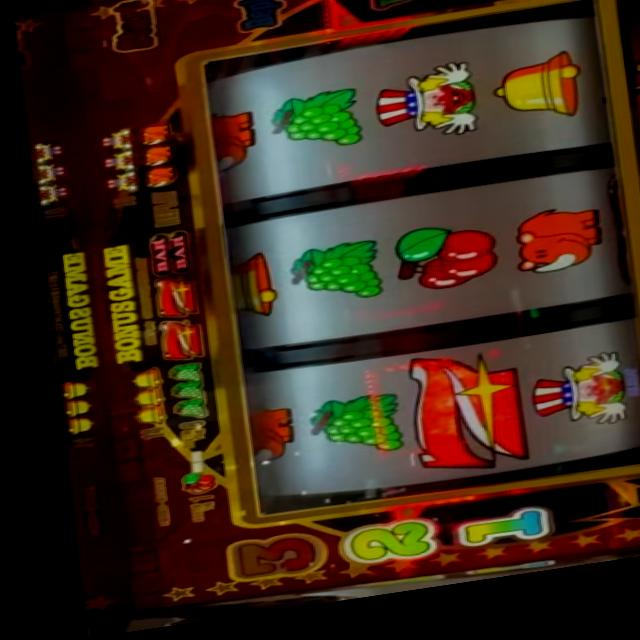bar: (137, 232, 191, 280)
bell: (484, 65, 586, 140), (219, 255, 275, 325), (113, 370, 153, 393), (121, 406, 158, 428), (122, 389, 156, 412), (54, 399, 84, 420), (57, 416, 84, 436), (53, 381, 76, 399)
cherry: (381, 230, 495, 307), (165, 473, 208, 500)
clown: (514, 364, 628, 448), (368, 72, 477, 156), (27, 181, 67, 208), (97, 171, 137, 197), (94, 152, 134, 176), (28, 140, 66, 165), (91, 130, 126, 154), (35, 163, 64, 184)
display: (193, 12, 640, 523)
elephant: (505, 217, 598, 290), (205, 112, 258, 180), (233, 409, 286, 473), (131, 170, 173, 195), (134, 125, 169, 149), (139, 148, 172, 170)
grape: (262, 95, 365, 164), (277, 247, 378, 316), (297, 400, 394, 469), (152, 365, 198, 388), (158, 401, 200, 426), (157, 384, 199, 405)
z: (396, 355, 522, 490), (143, 321, 200, 366), (141, 279, 191, 325)
